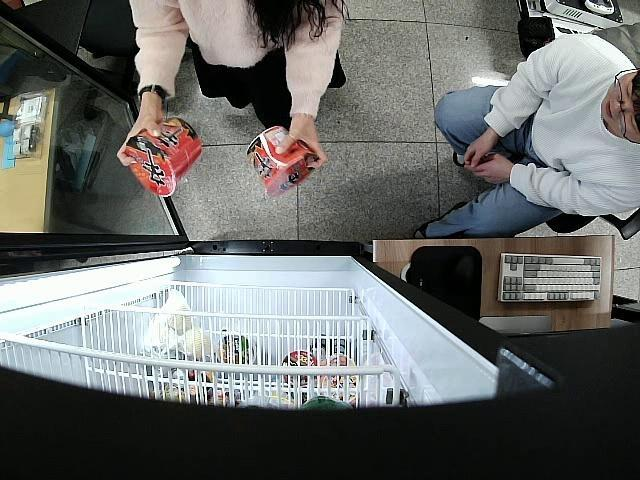01_ShinRamen_L: (124, 120, 201, 197), (244, 125, 316, 196)
